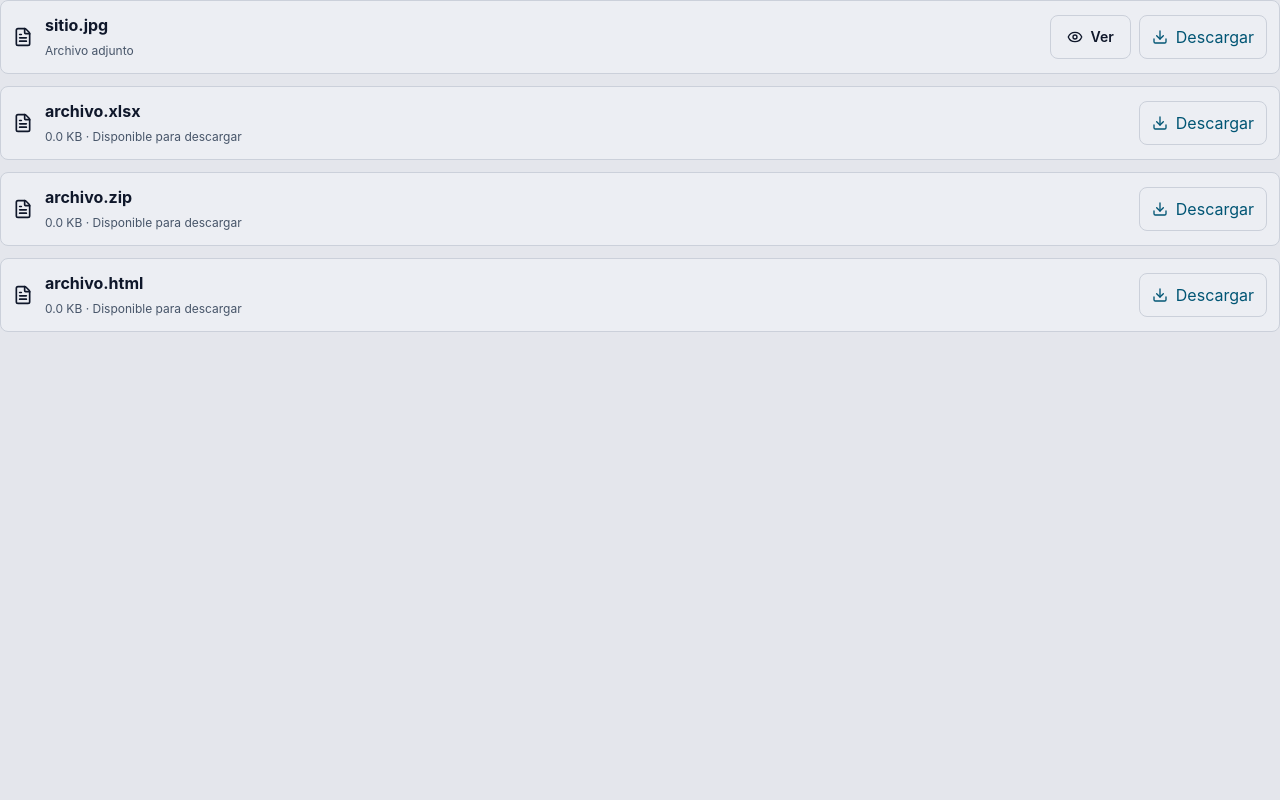
Test: DocumentList › previews an image and keeps spreadsheets, archives and HTML download-only
The width and height of the screenshot is (1280, 800).
Click the button with aria-label "Ver sitio.jpg": [1090, 37] box [1050,15,1131,59]
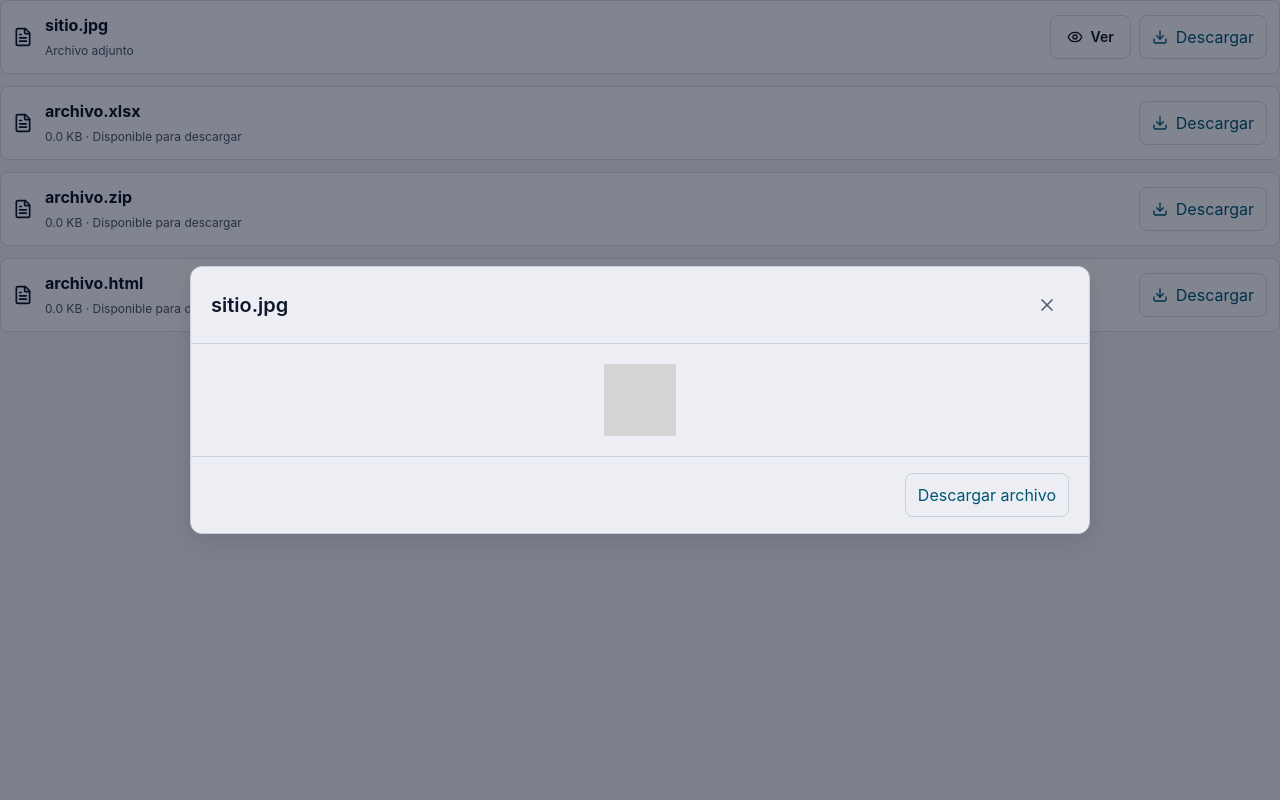
Check: the dialog "sitio.jpg" is shown, box [190,266,1090,534]
Press Escape
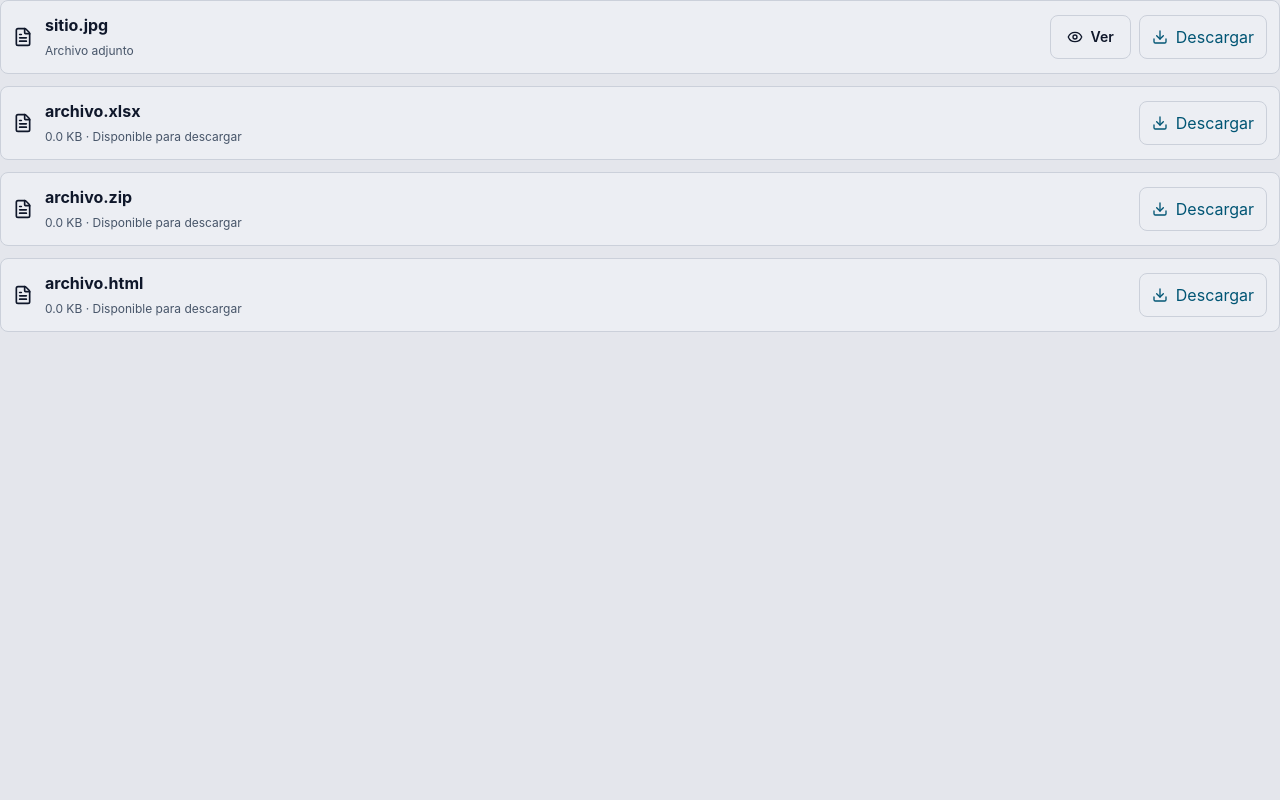
Check: the dialog is gone
